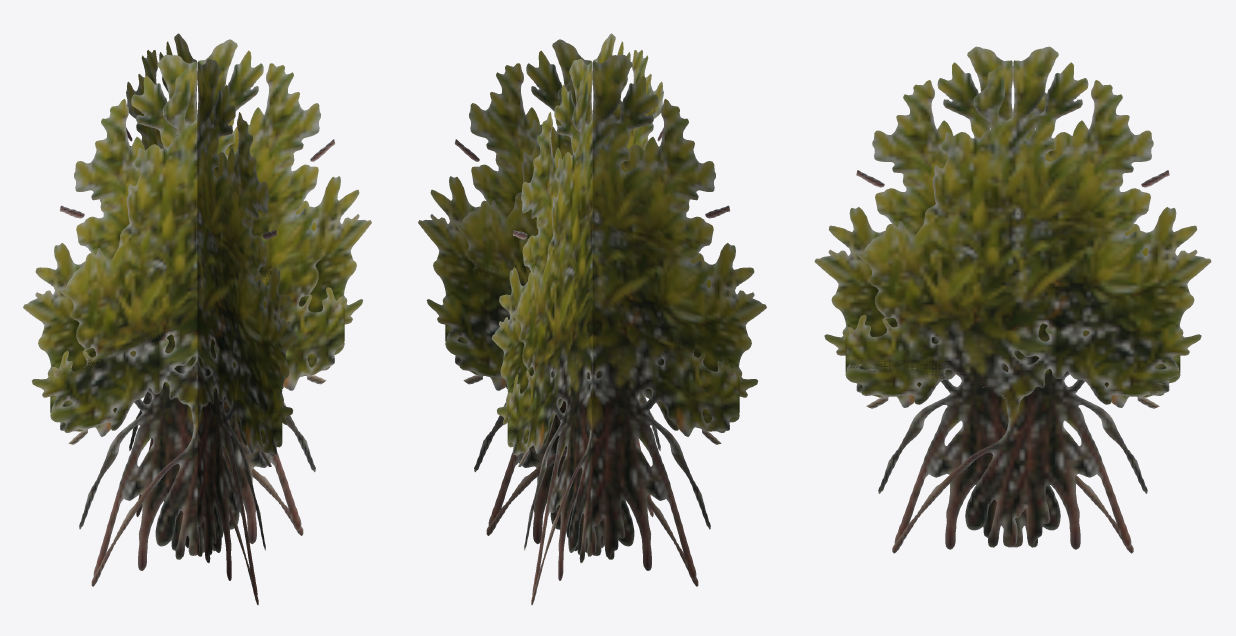
The model's file is mangrove_3.FBX.
3 renders of one model, left to right at view 1: azimuth 30°, elevation 25°; view 2: azimuth 150°, elevation 25°; view 3: azimuth 270°, elevation 25°, orthographic.
Visible parts, largest first — view 1: mangrove_3; view 2: mangrove_3; view 3: mangrove_3.
Boxes of the visible parts, box(x1,y1,x2,y2) form: mangrove_3: box(23, 33, 371, 604); mangrove_3: box(418, 33, 766, 604); mangrove_3: box(814, 46, 1211, 553).
Size of the model in its own units: 108 by 155 by 108.
